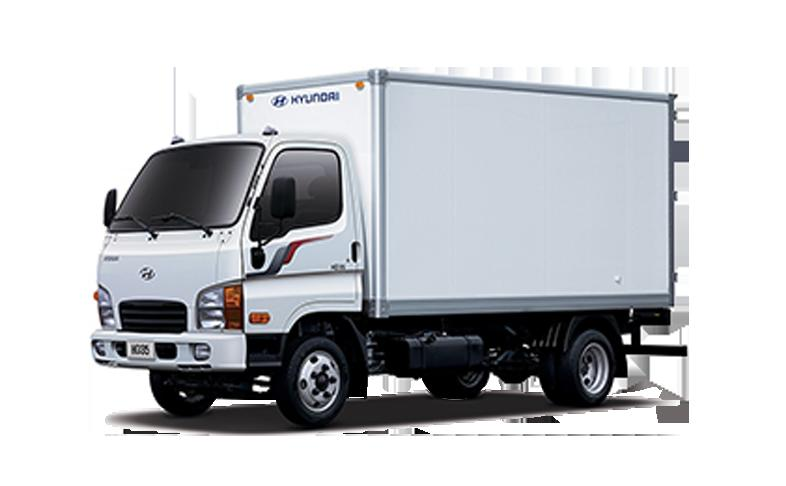truck: (89, 69, 688, 428)
